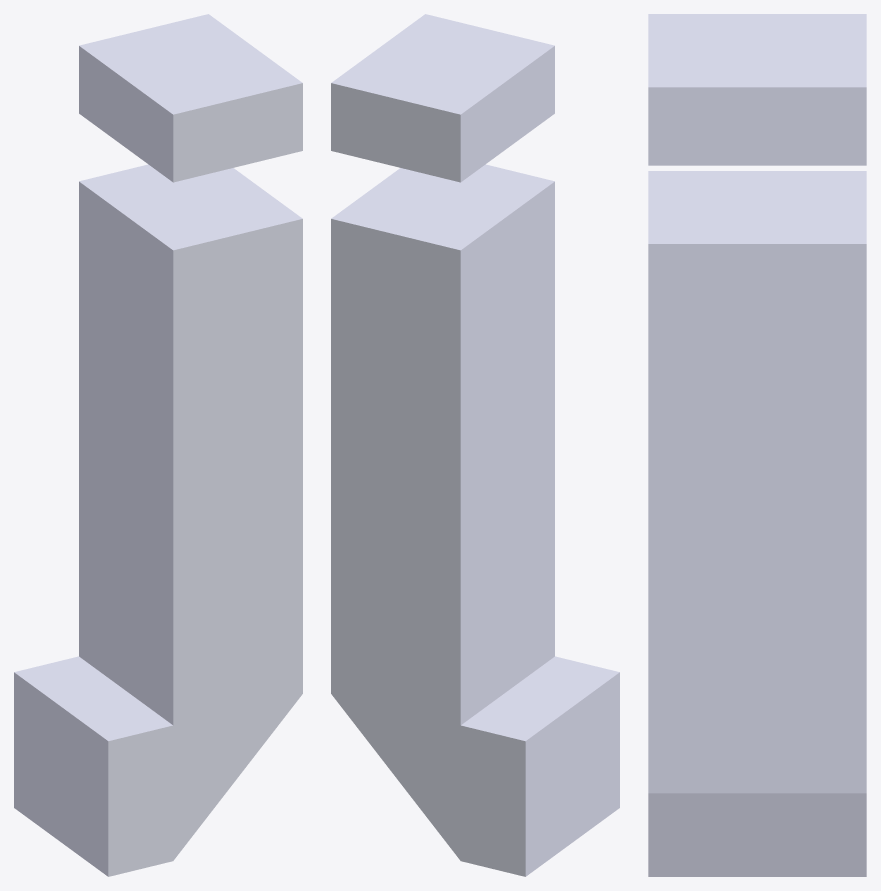
The model's file is J_DeltaBlock_Grey.glb.
3 renders of one model, left to right at view 1: azimuth 30°, elevation 25°; view 2: azimuth 150°, elevation 25°; view 3: azimuth 270°, elevation 25°, orthographic. The views are drawn at different scales.
Visible parts, largest first — view 1: j_DeltaBlock_Grey; view 2: j_DeltaBlock_Grey; view 3: j_DeltaBlock_Grey.
Boxes of the visible parts, box(x1,y1,x2,y2) form: j_DeltaBlock_Grey: box(14, 14, 302, 876); j_DeltaBlock_Grey: box(331, 14, 619, 876); j_DeltaBlock_Grey: box(648, 14, 866, 876).
Size of what is drawn, in the model's own units: 0.0536 by 0.1964 by 0.045.
Materials: 2 (2 with a texture image).
